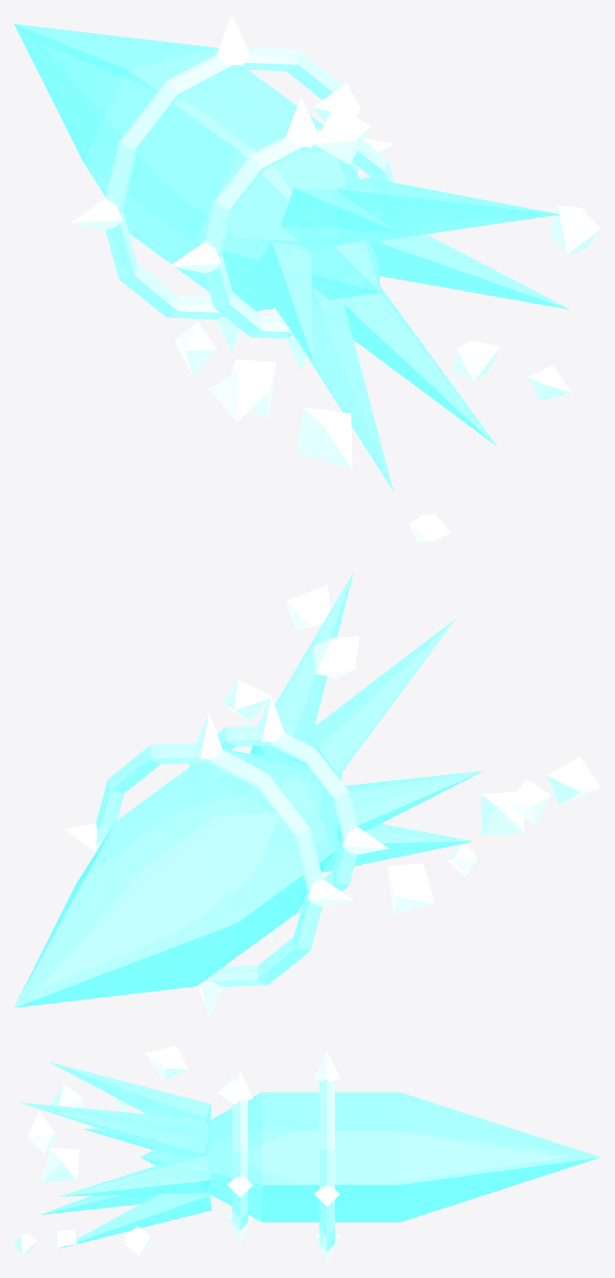
File: Magic_Ice.glb
3 views of the same model, one above another, from view 1: azimuth 30°, elevation 25°; view 2: azimuth 150°, elevation 25°; view 3: azimuth 270°, elevation 25° (orthographic). The views are drawn at different scales.
Parts seen in each view (by area): view 1: IceBolt_Shard, IceBolt_TailShards, IceBolt_Chips, IceBolt_Core, IceBolt_FrostRing_A, IceBolt_FrostRing_B; view 2: IceBolt_Shard, IceBolt_TailShards, IceBolt_Core, IceBolt_FrostRing_A, IceBolt_Chips, IceBolt_FrostRing_B; view 3: IceBolt_Shard, IceBolt_TailShards, IceBolt_Core, IceBolt_Chips, IceBolt_FrostRing_A, IceBolt_FrostRing_B.
Part boxes in pixels (<box>): IceBolt_Shard: <box>14,24,380,310</box>; IceBolt_TailShards: <box>251,177,570,491</box>; IceBolt_Chips: <box>174,83,600,542</box>; IceBolt_Core: <box>43,45,296,240</box>; IceBolt_FrostRing_A: <box>70,14,392,351</box>; IceBolt_FrostRing_B: <box>169,96,394,371</box>; IceBolt_Shard: <box>14,749,341,1007</box>; IceBolt_TailShards: <box>247,572,483,872</box>; IceBolt_Core: <box>40,813,278,988</box>; IceBolt_FrostRing_A: <box>65,713,353,1016</box>; IceBolt_Chips: <box>222,584,600,915</box>; IceBolt_FrostRing_B: <box>153,696,388,942</box>; IceBolt_Shard: <box>140,1092,600,1222</box>; IceBolt_TailShards: <box>20,1062,211,1248</box>; IceBolt_Core: <box>228,1132,562,1182</box>; IceBolt_Chips: <box>14,1045,250,1255</box>; IceBolt_FrostRing_A: <box>314,1051,339,1263</box>; IceBolt_FrostRing_B: <box>227,1071,252,1243</box>.
Bounding box in the file's own units: 0.6356 × 0.5488 × 1.35.
